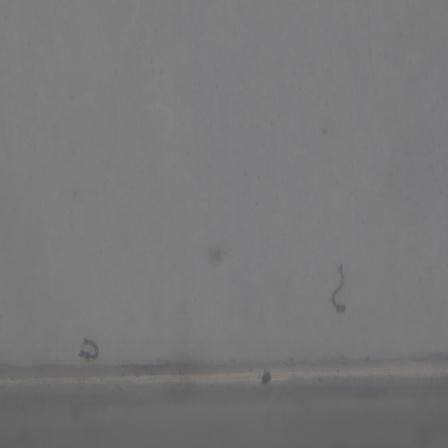Jentik-Nyamuk: (328, 260, 350, 316), (73, 331, 105, 368)
